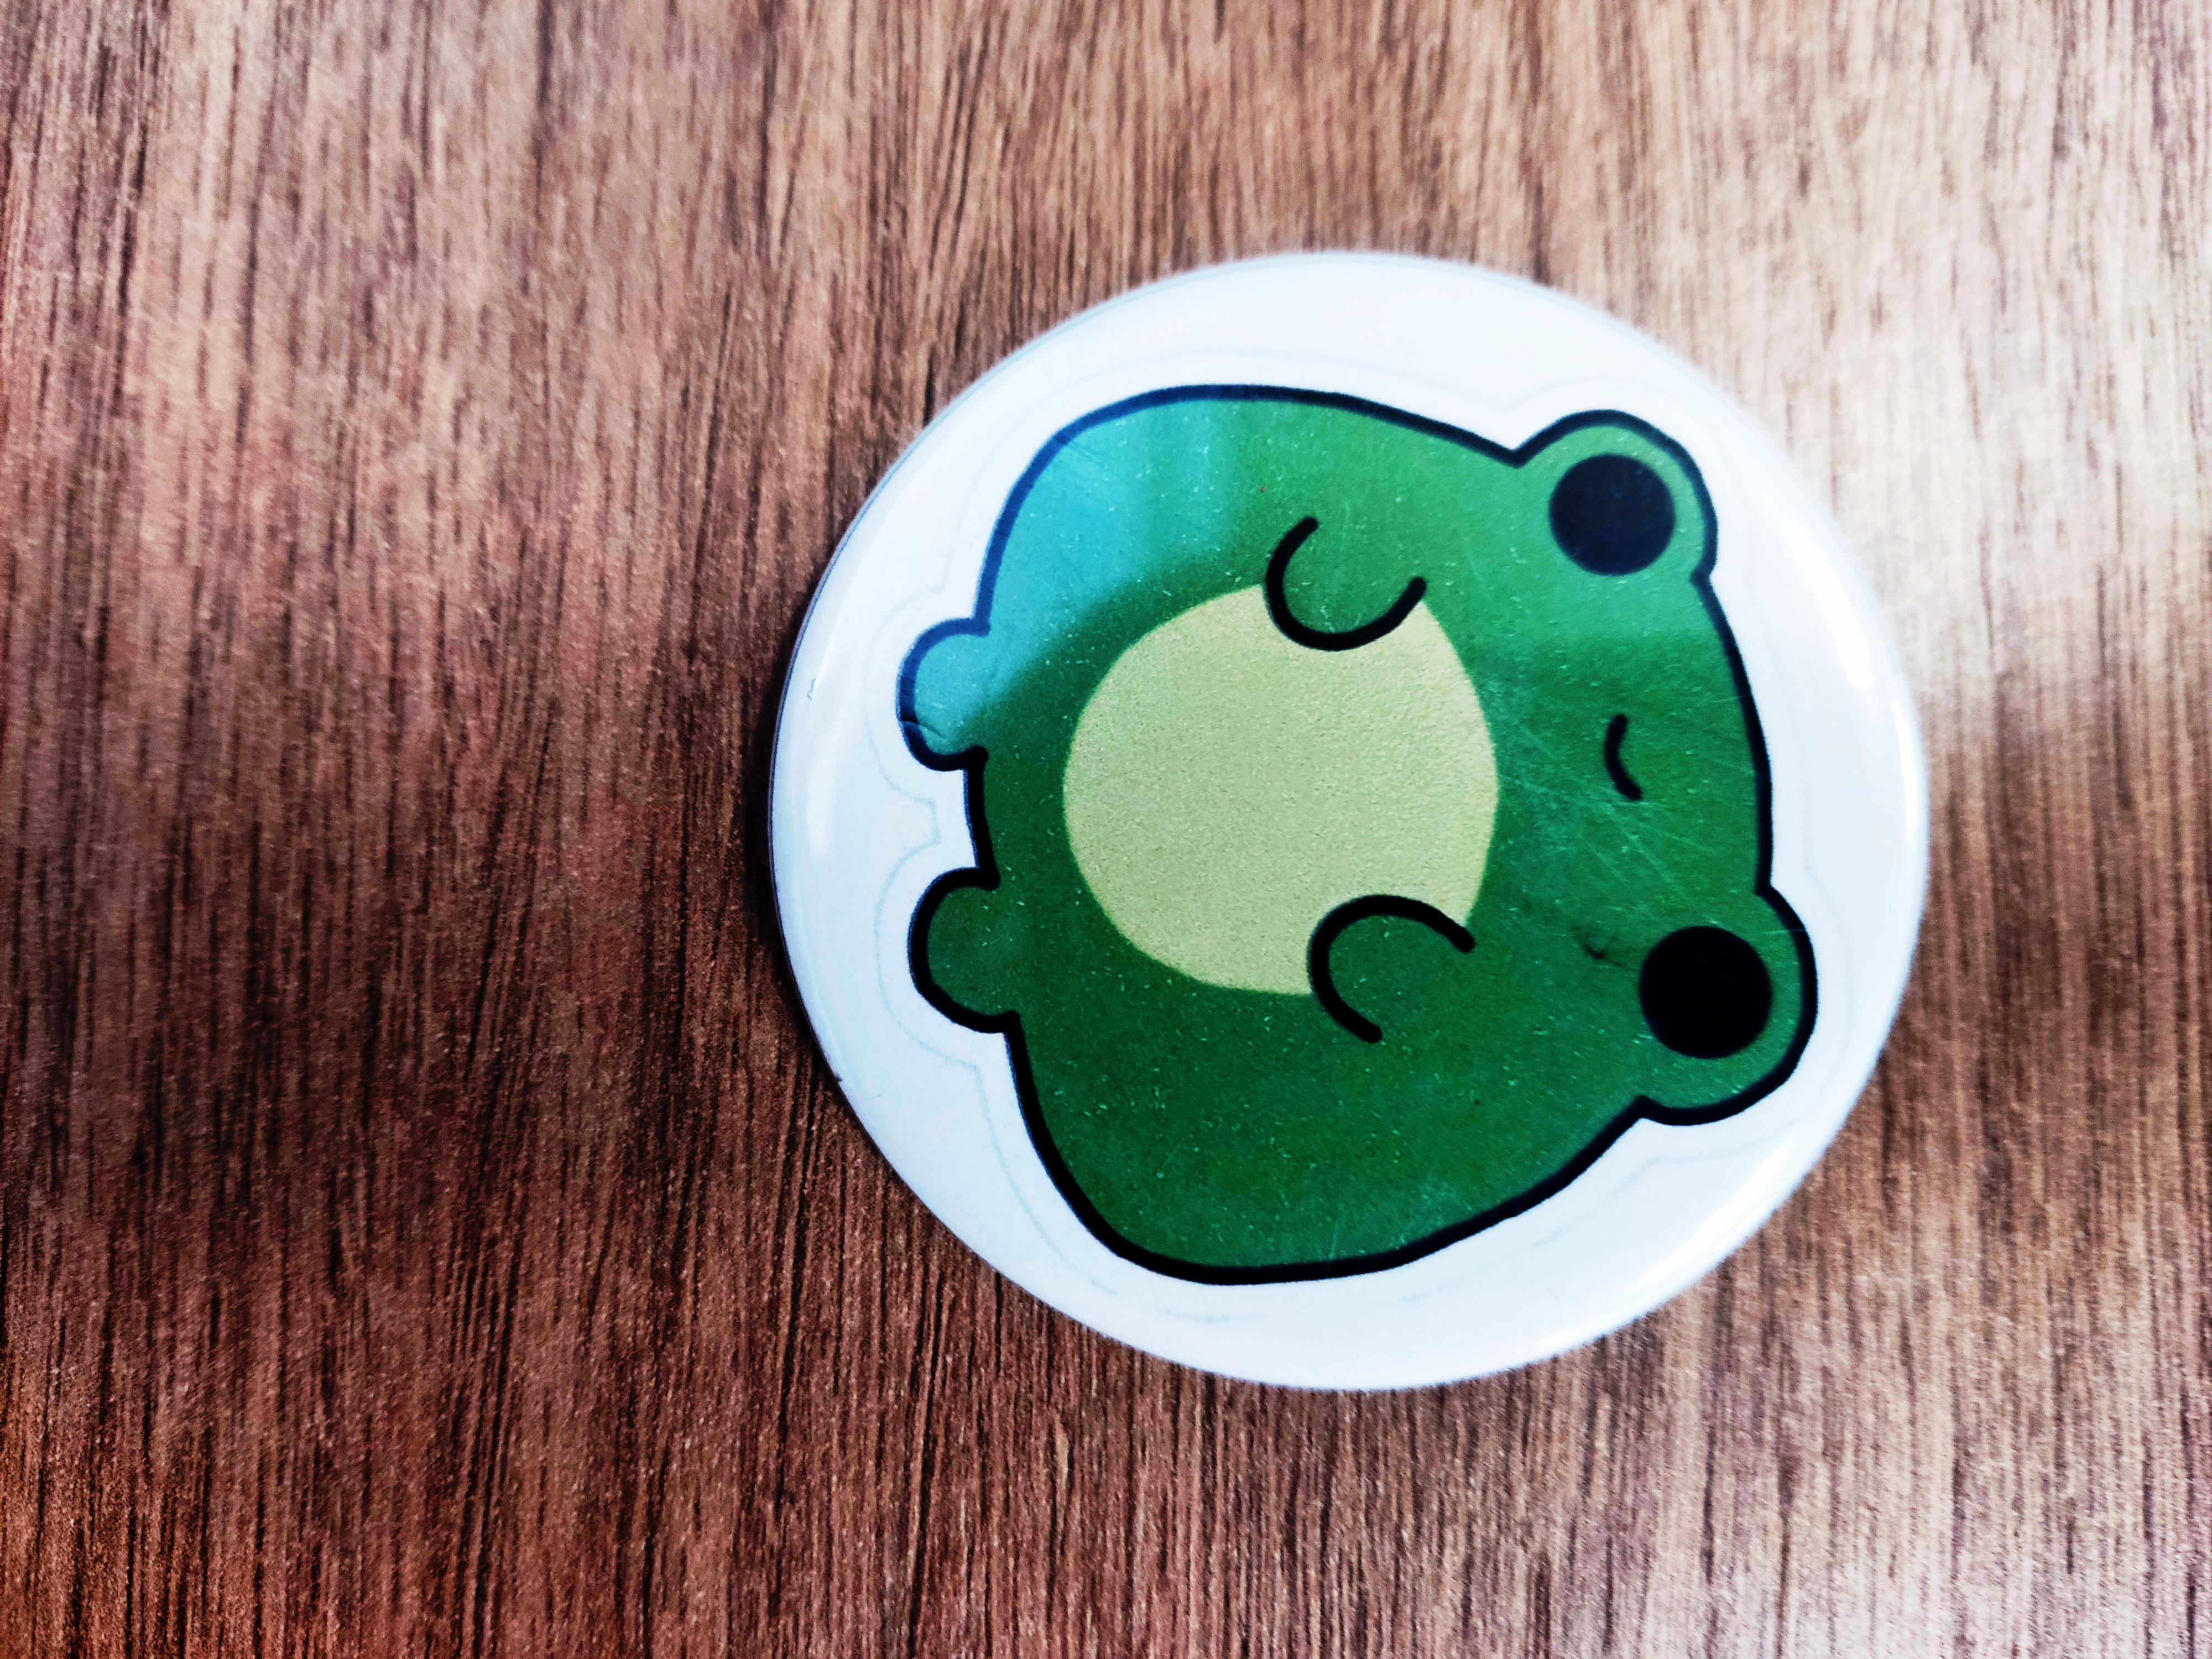pin: (719, 244, 1984, 1396)
